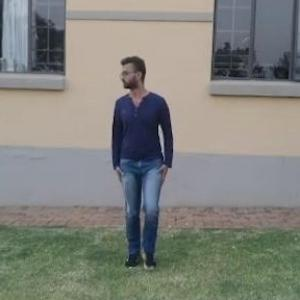follow: (104, 46, 177, 277)
